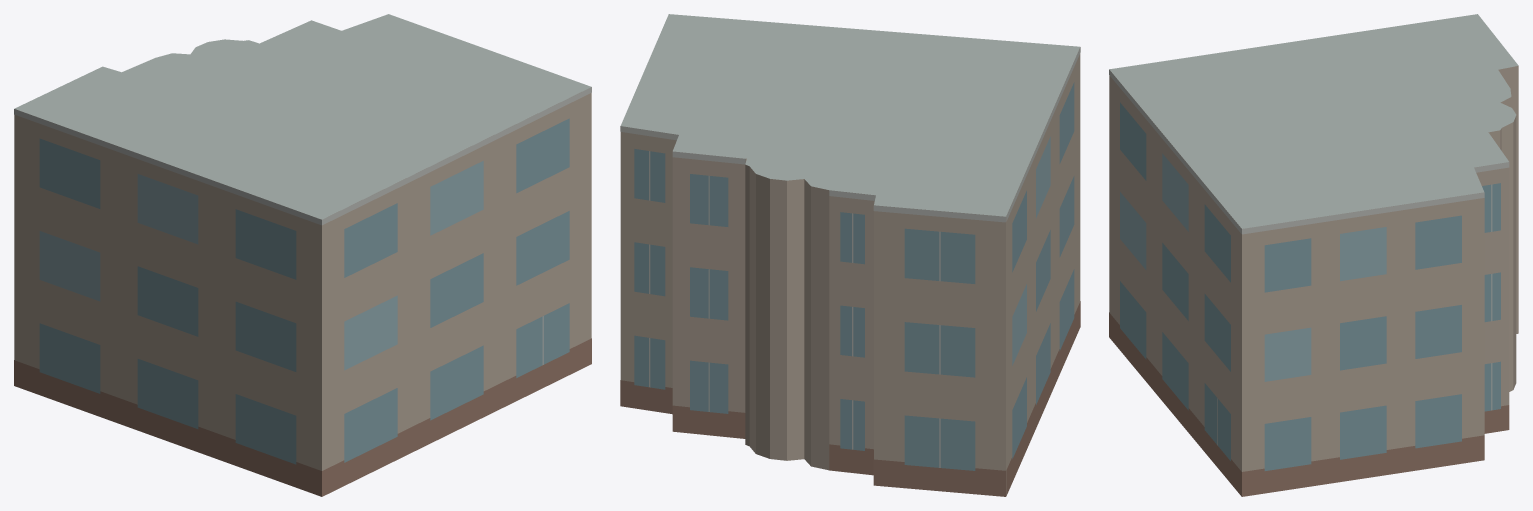
File: survey-upis-32998043.glb
3 renders of one model, left to right at view 1: azimuth 30°, elevation 25°; view 2: azimuth 150°, elevation 25°; view 3: azimuth 270°, elevation 25°, orthographic. The views are drawn at different scales.
Parts seen in each view (by area): view 1: survey-upis-32998043.tmp; view 2: survey-upis-32998043.tmp; view 3: survey-upis-32998043.tmp.
Boxes of the visible parts, x1,y1,x2,y2 form: survey-upis-32998043.tmp: [14, 14, 591, 496]; survey-upis-32998043.tmp: [620, 14, 1080, 496]; survey-upis-32998043.tmp: [1109, 14, 1518, 496].
Size of the model in its own units: 20.31 by 11.8 by 16.36.
